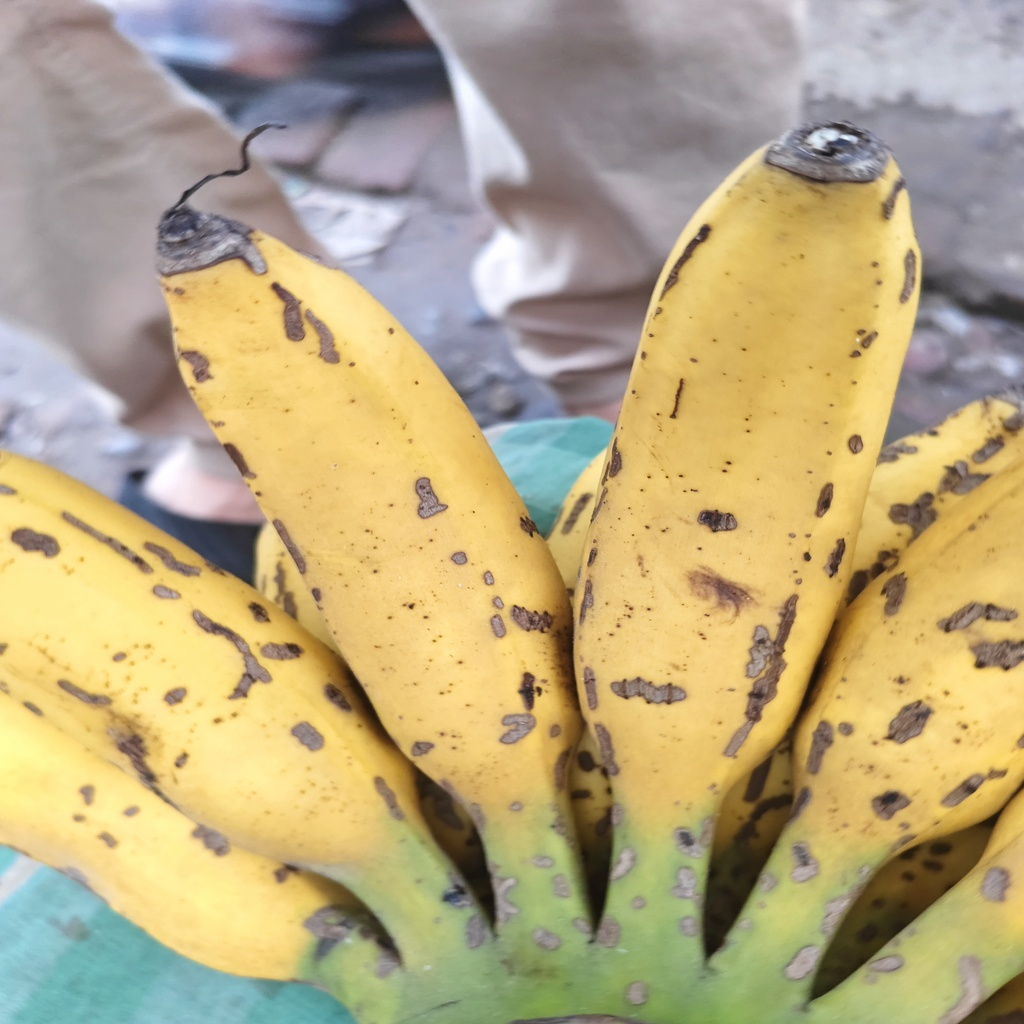unhealthy: (161, 216, 574, 820), (577, 135, 924, 801)
